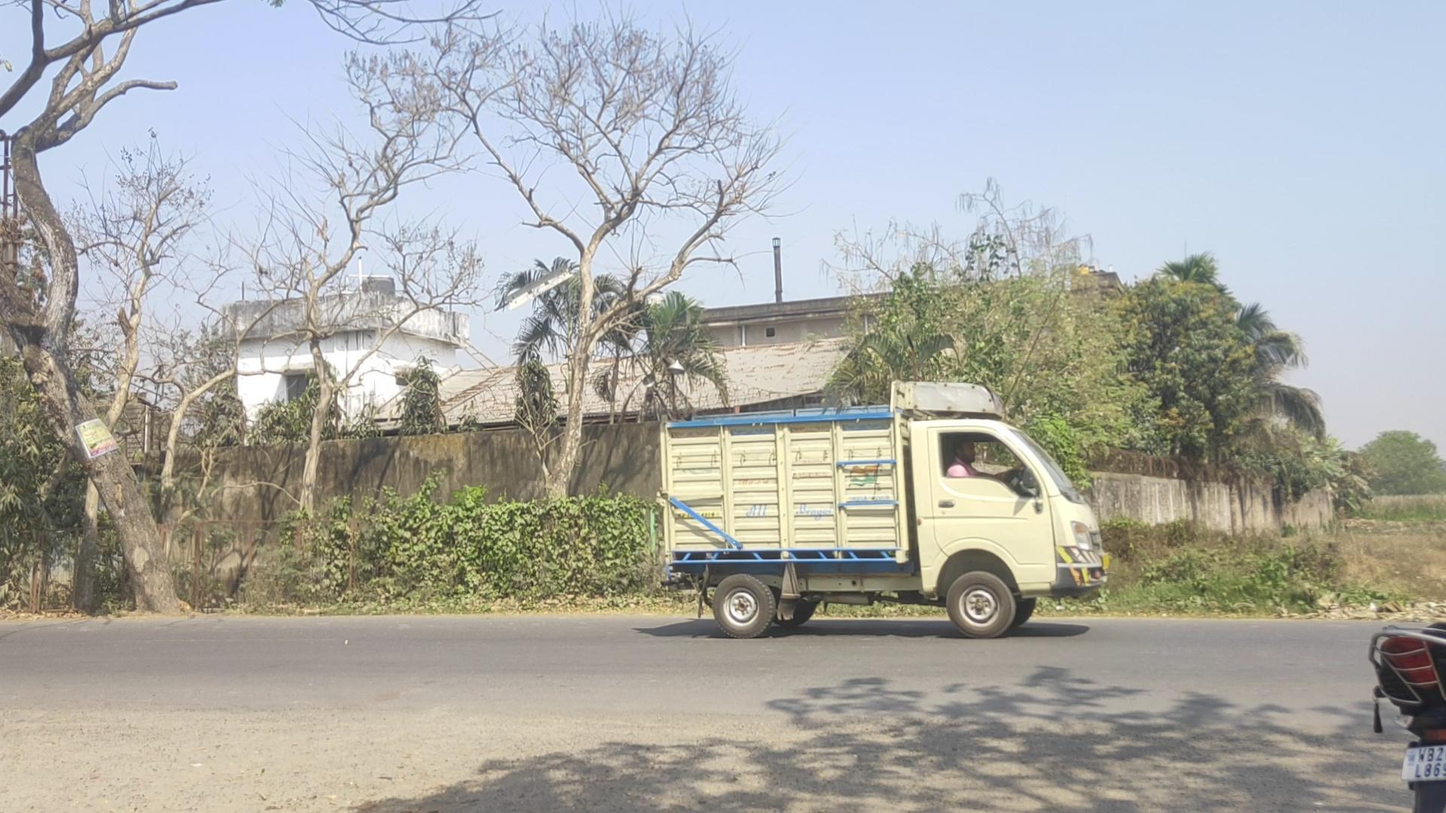van: (651, 380, 1110, 640)
